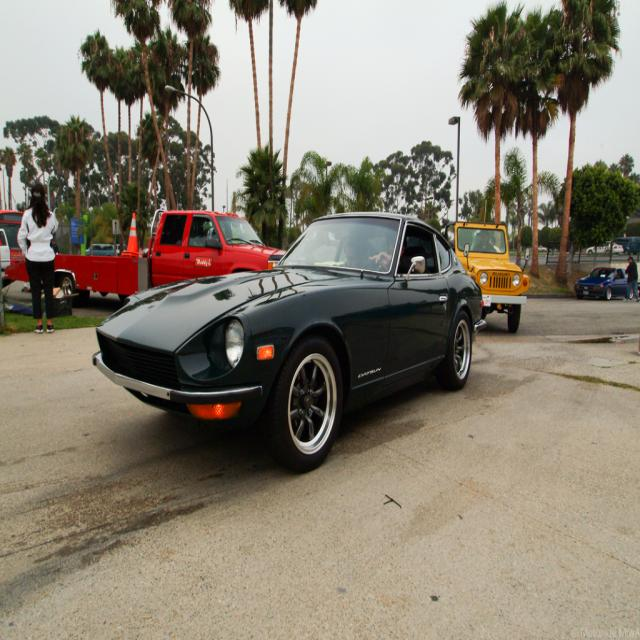other: (89, 209, 485, 475), (576, 268, 636, 298)
